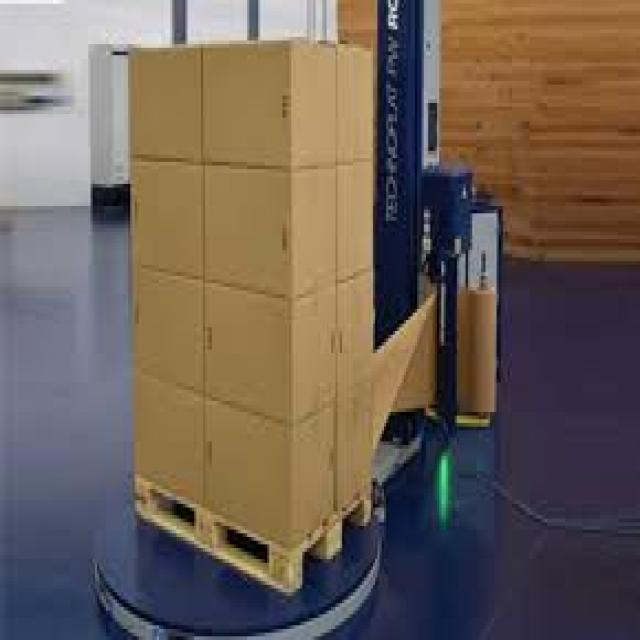cardboxes: (204, 397, 335, 552), (205, 280, 338, 430), (204, 166, 338, 301), (202, 41, 337, 171), (131, 265, 205, 395), (129, 158, 205, 281), (134, 377, 205, 505), (130, 47, 202, 163), (337, 271, 374, 394), (338, 157, 374, 283), (335, 45, 373, 164), (337, 382, 372, 509)
